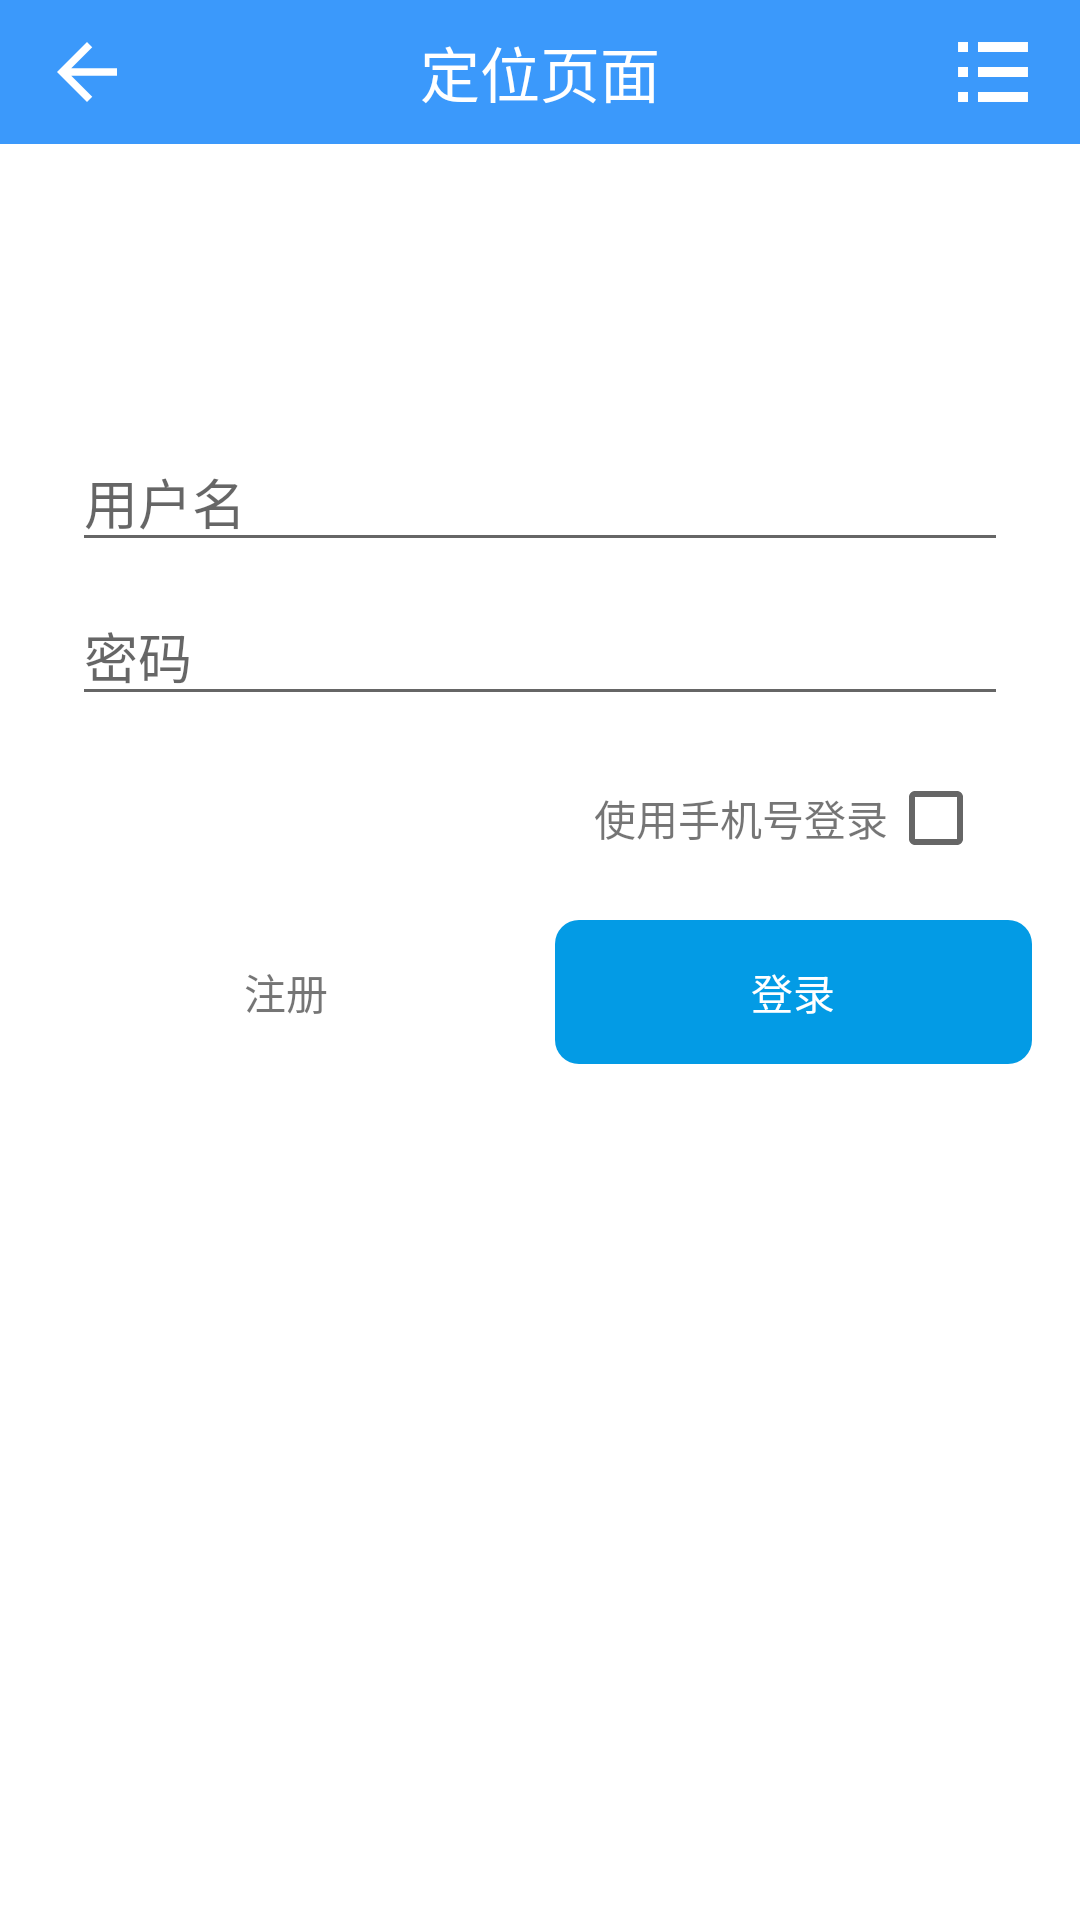

Screen size 1080x1920. Icon name, then its box in pixels as (x1, y1, x2, y2):
list: (958, 42, 1028, 102)
